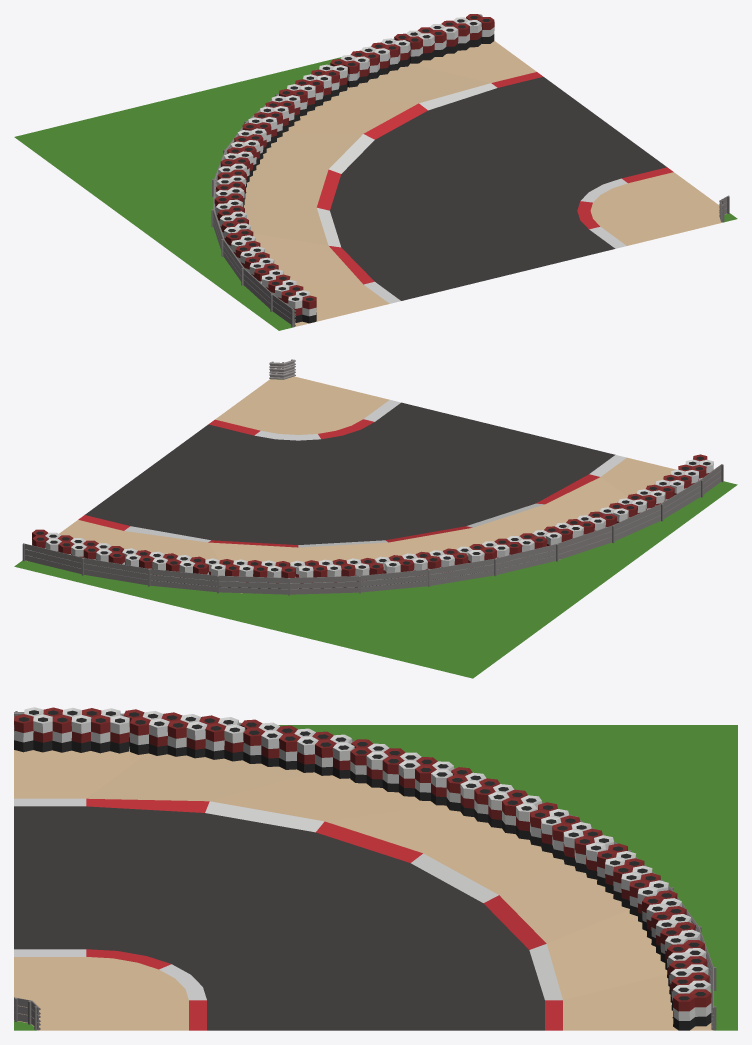
The model's file is tiles-nb-tile-race-track-sand-curve-nb.glb.
The picture shows the model from 3 angles, top to bottom: view 1: azimuth 30°, elevation 25°; view 2: azimuth 150°, elevation 25°; view 3: azimuth 270°, elevation 25°; orthographic projection. The views are drawn at different scales.
Parts seen in each view (by area): view 1: tile-race-track-sand-curve-nb; view 2: tile-race-track-sand-curve-nb; view 3: tile-race-track-sand-curve-nb.
Part boxes in pixels (x1,y1,x2,y2): tile-race-track-sand-curve-nb: (14, 14, 737, 330); tile-race-track-sand-curve-nb: (14, 359, 737, 678); tile-race-track-sand-curve-nb: (14, 707, 737, 1030).
Size of the model in its own units: 30 by 1.32 by 30.
